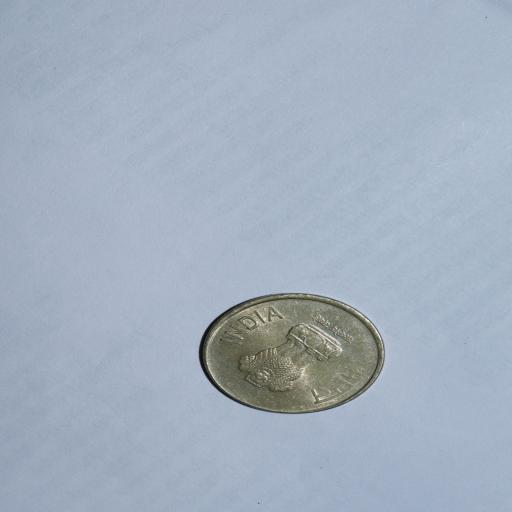rupee5: (196, 290, 389, 413)
